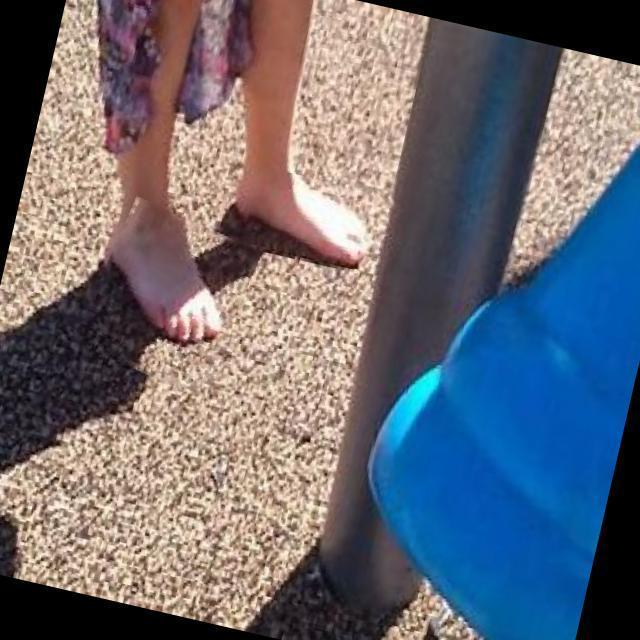No_Shoes: (222, 138, 392, 278), (90, 195, 217, 363)
